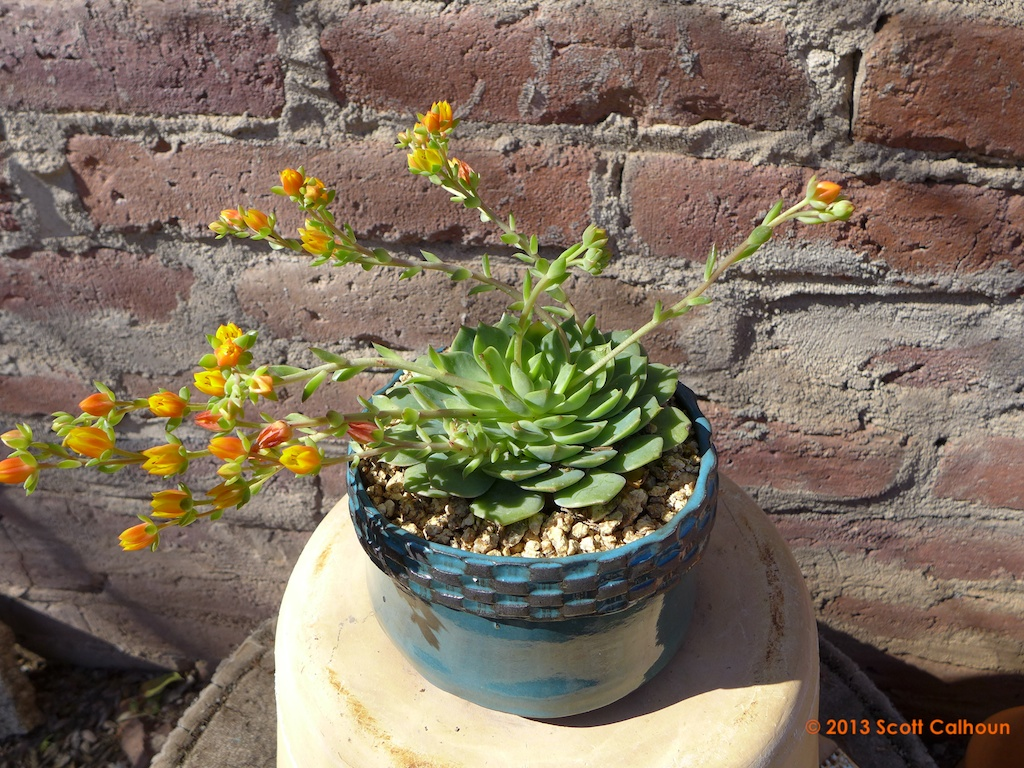pottedplant: (9, 99, 859, 721)
